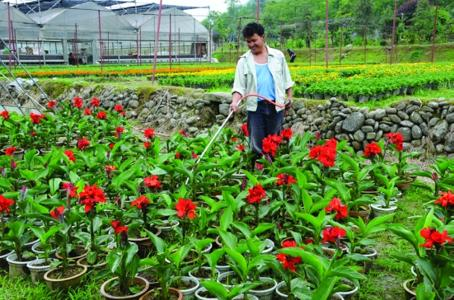person: (231, 23, 296, 165)
